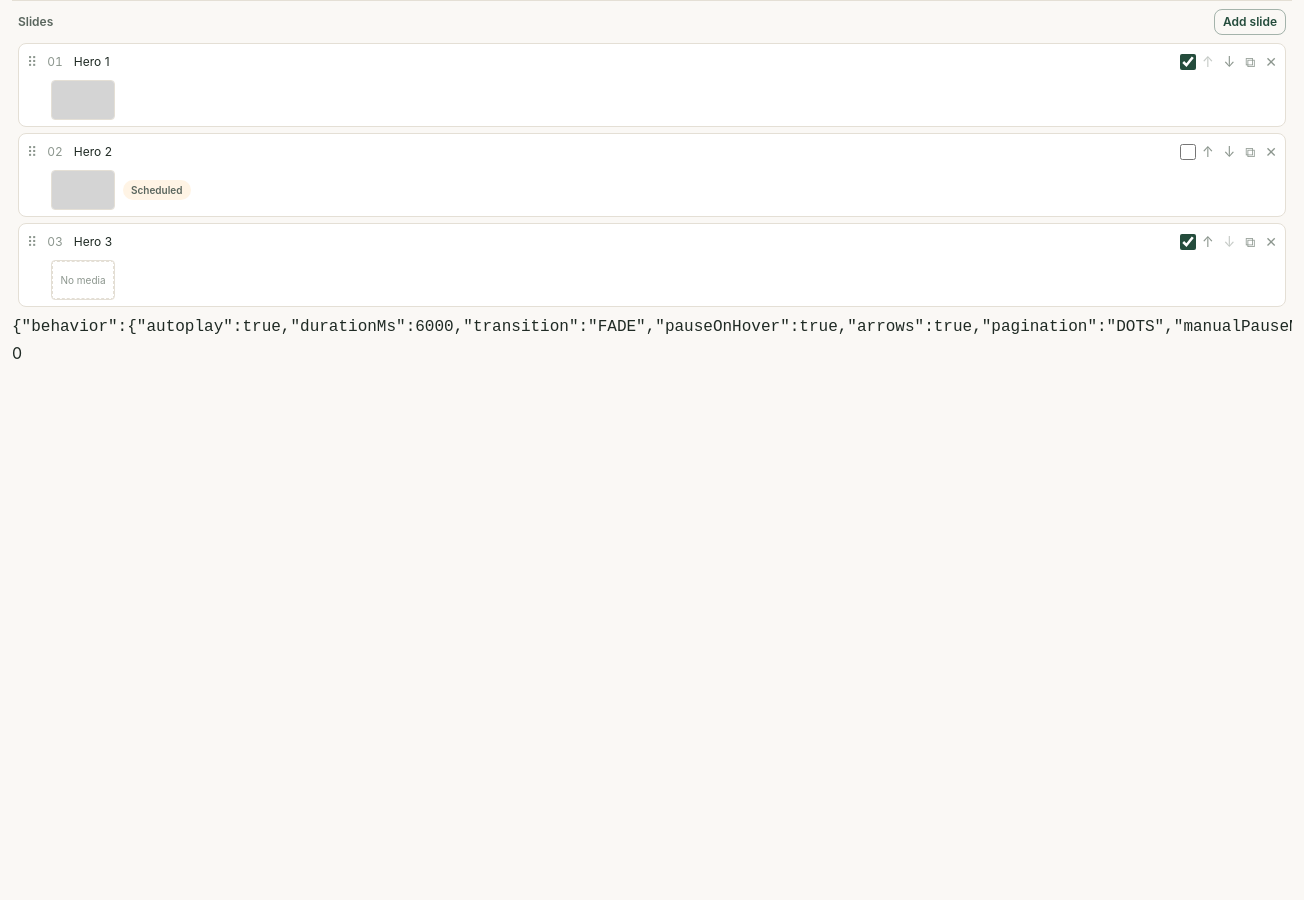
it: SlideList › adds slides up to the backend cap of six
Click the button "Add slide". click: click(1250, 22)
box: [1214,9,1286,35]
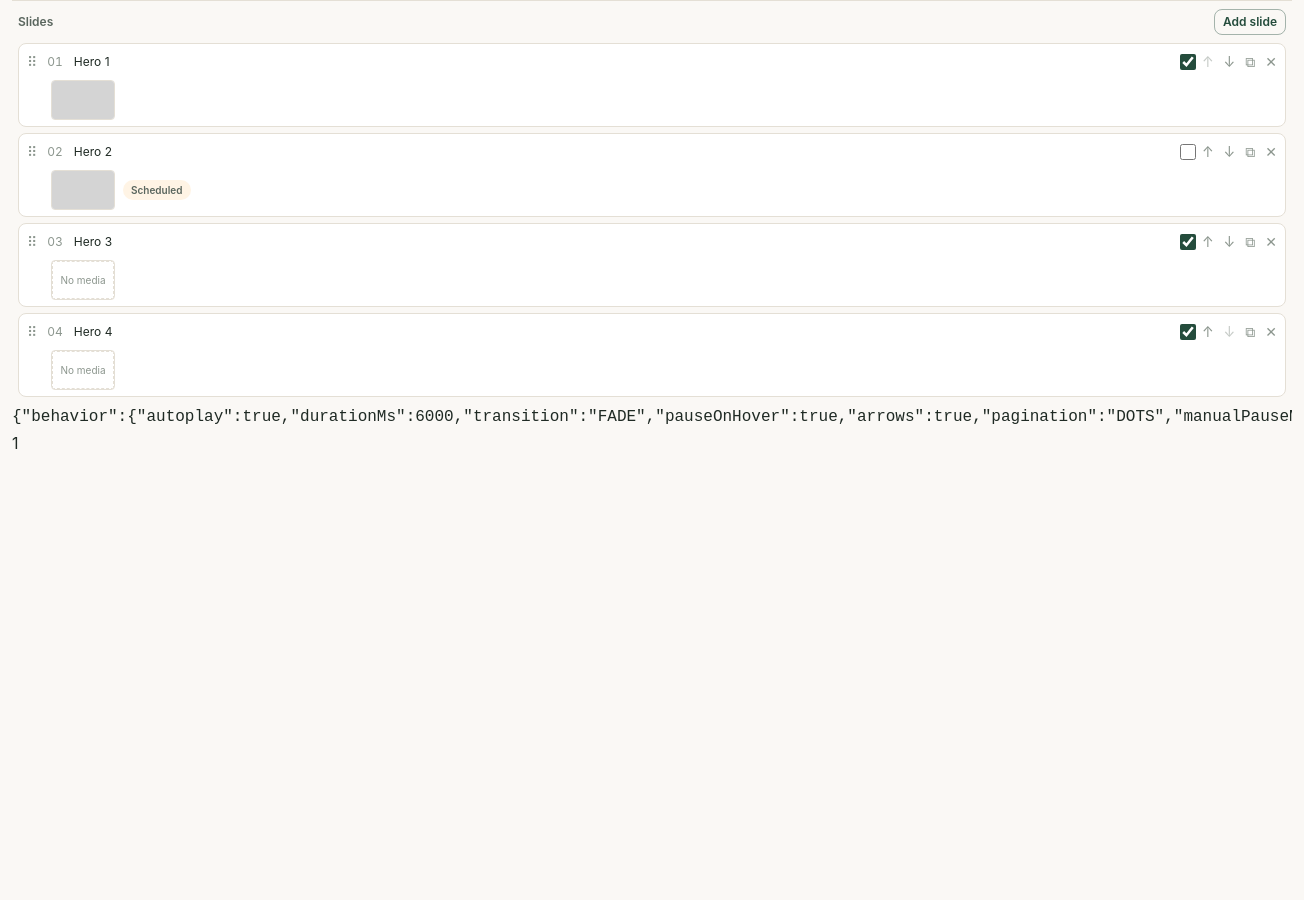
Click the button "Add slide". click: click(1250, 22)
box: [1214,9,1286,35]
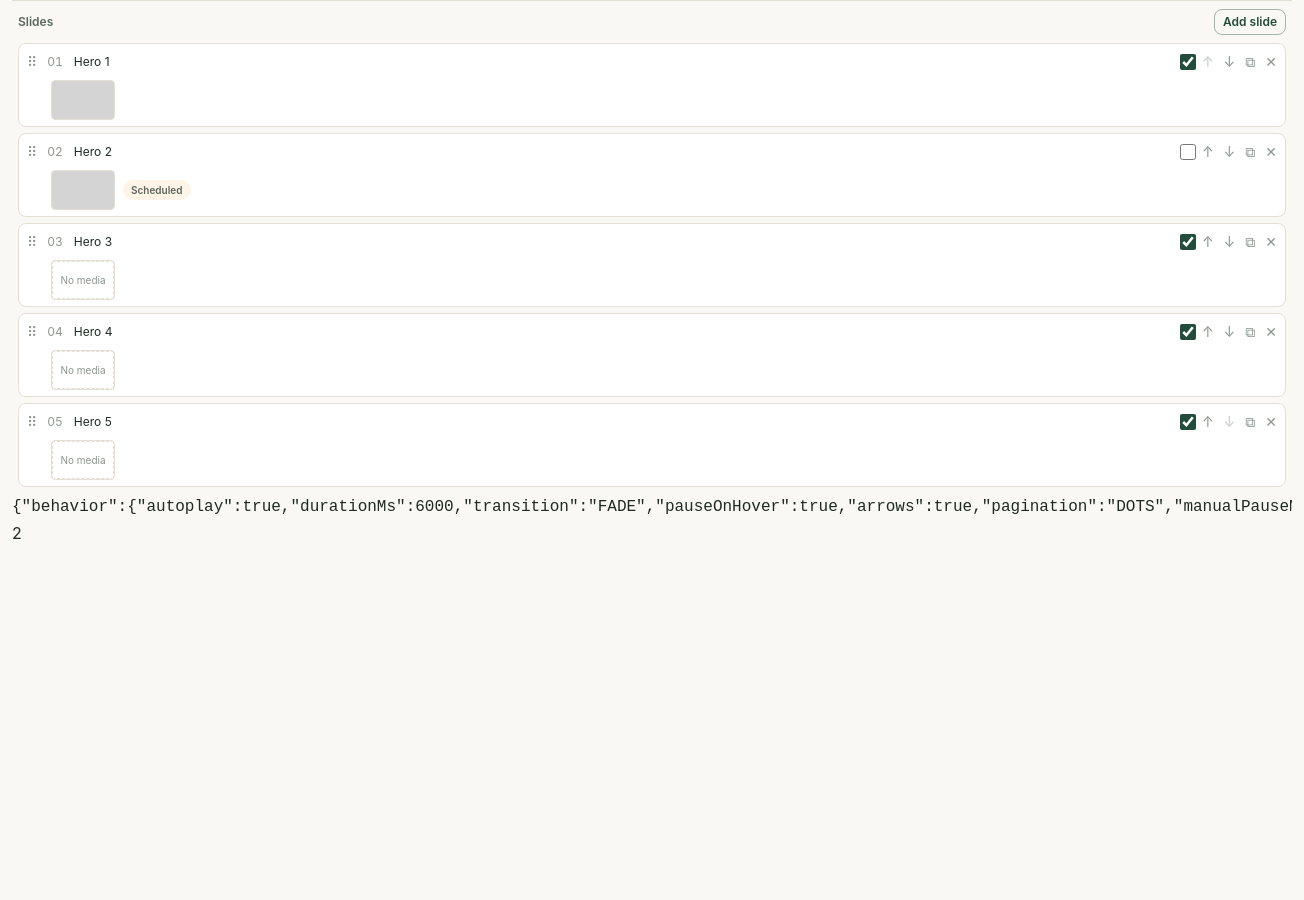
Click the button "Add slide". click: click(1250, 22)
box: [1214,9,1286,35]
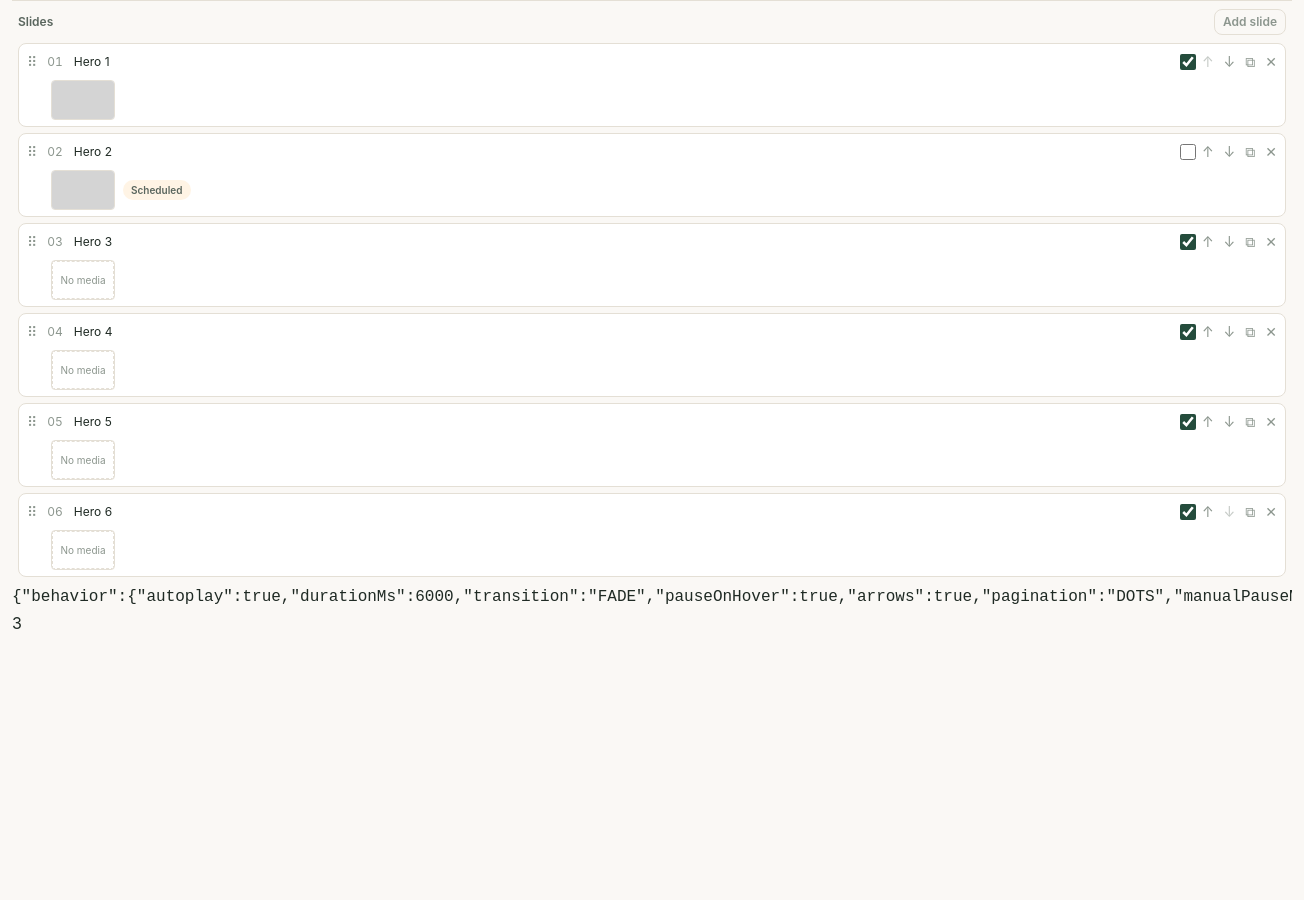
Check: the button "Add slide" is disabled, box [1214,9,1286,35]
